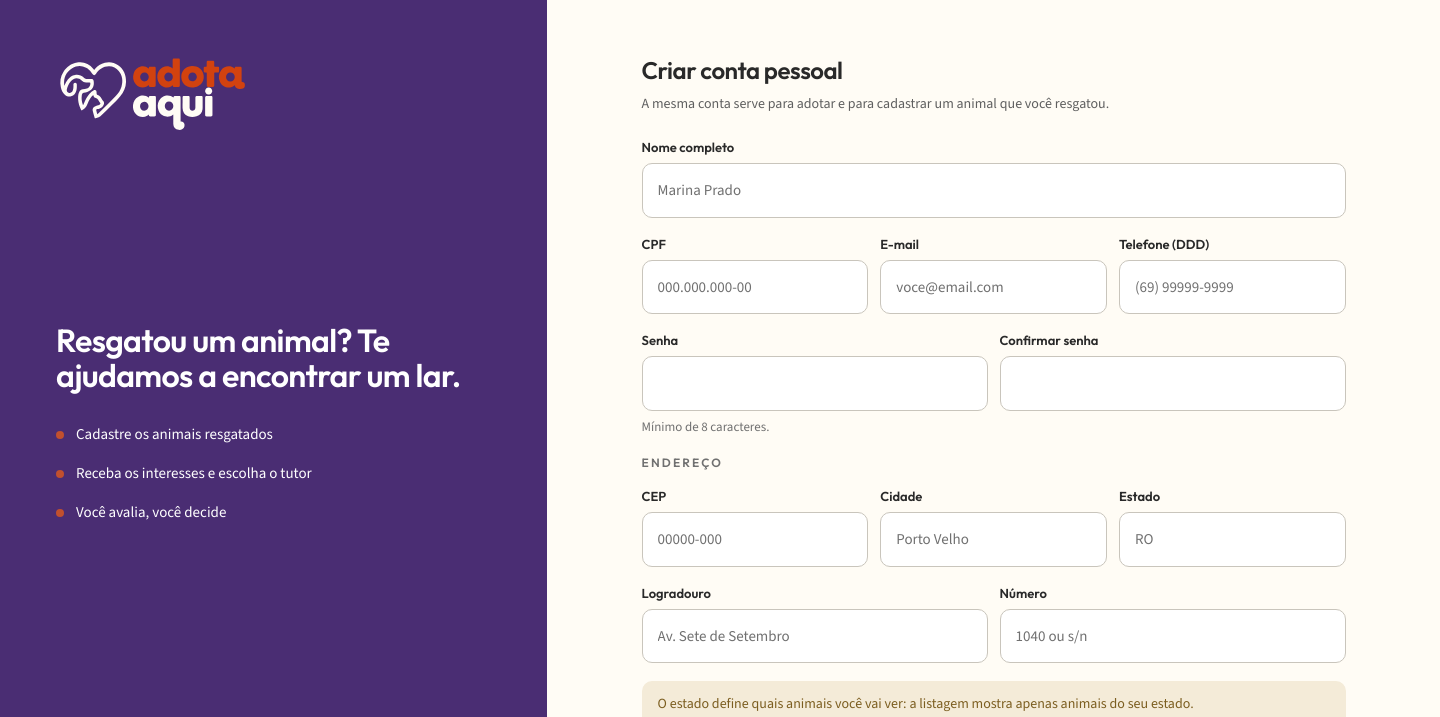
Scenario: cadastro de pessoa física › avisa quando o CEP não existe
Type "00000000" into the field labelled "CEP" at (755, 540), box left=642, top=512, right=868, bottom=567
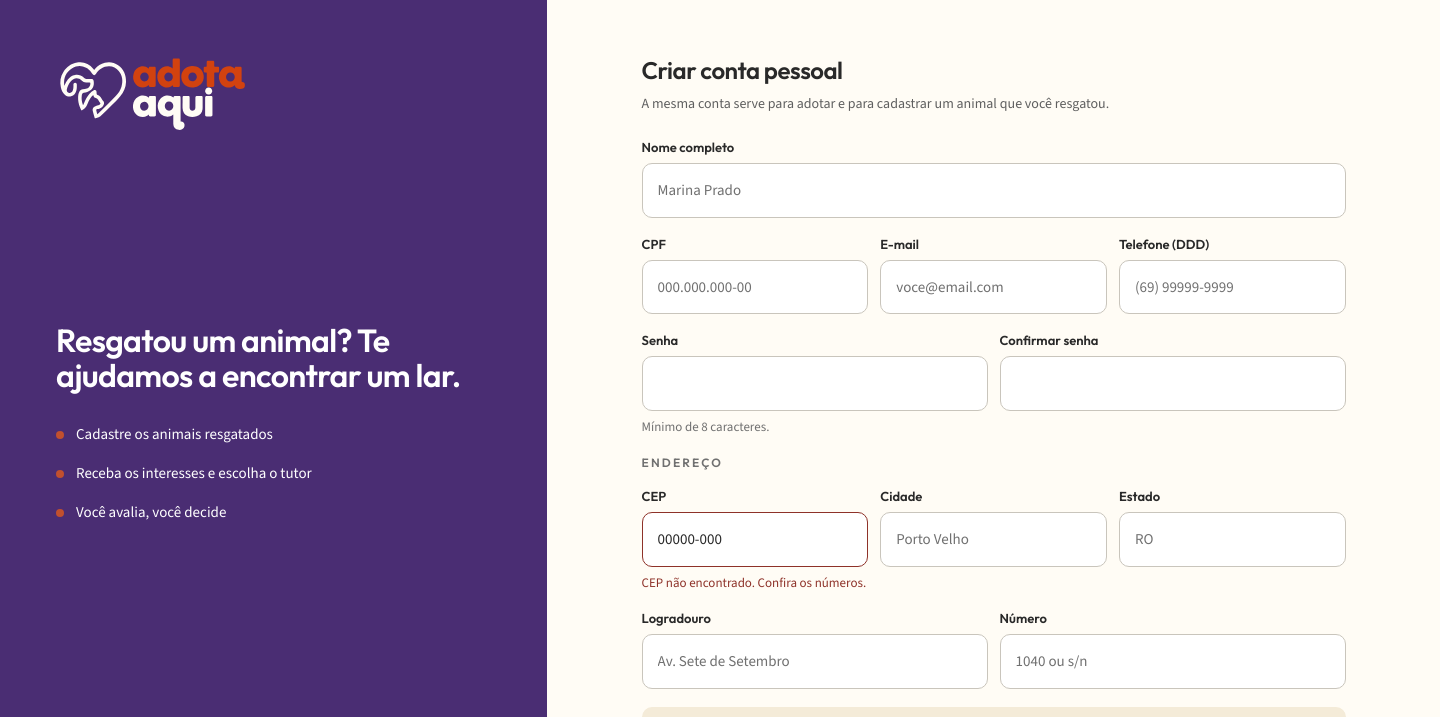
Now the text "CEP não encontrado. Confira os números." is shown, box left=642, top=573, right=868, bottom=592
